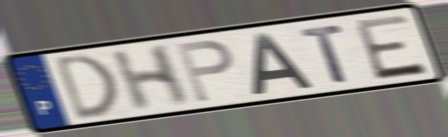A: (250, 31, 316, 98)
D: (52, 51, 123, 124)
E: (351, 11, 431, 82)
H: (108, 42, 193, 114)
P: (173, 38, 236, 105)
T: (297, 22, 352, 85)
